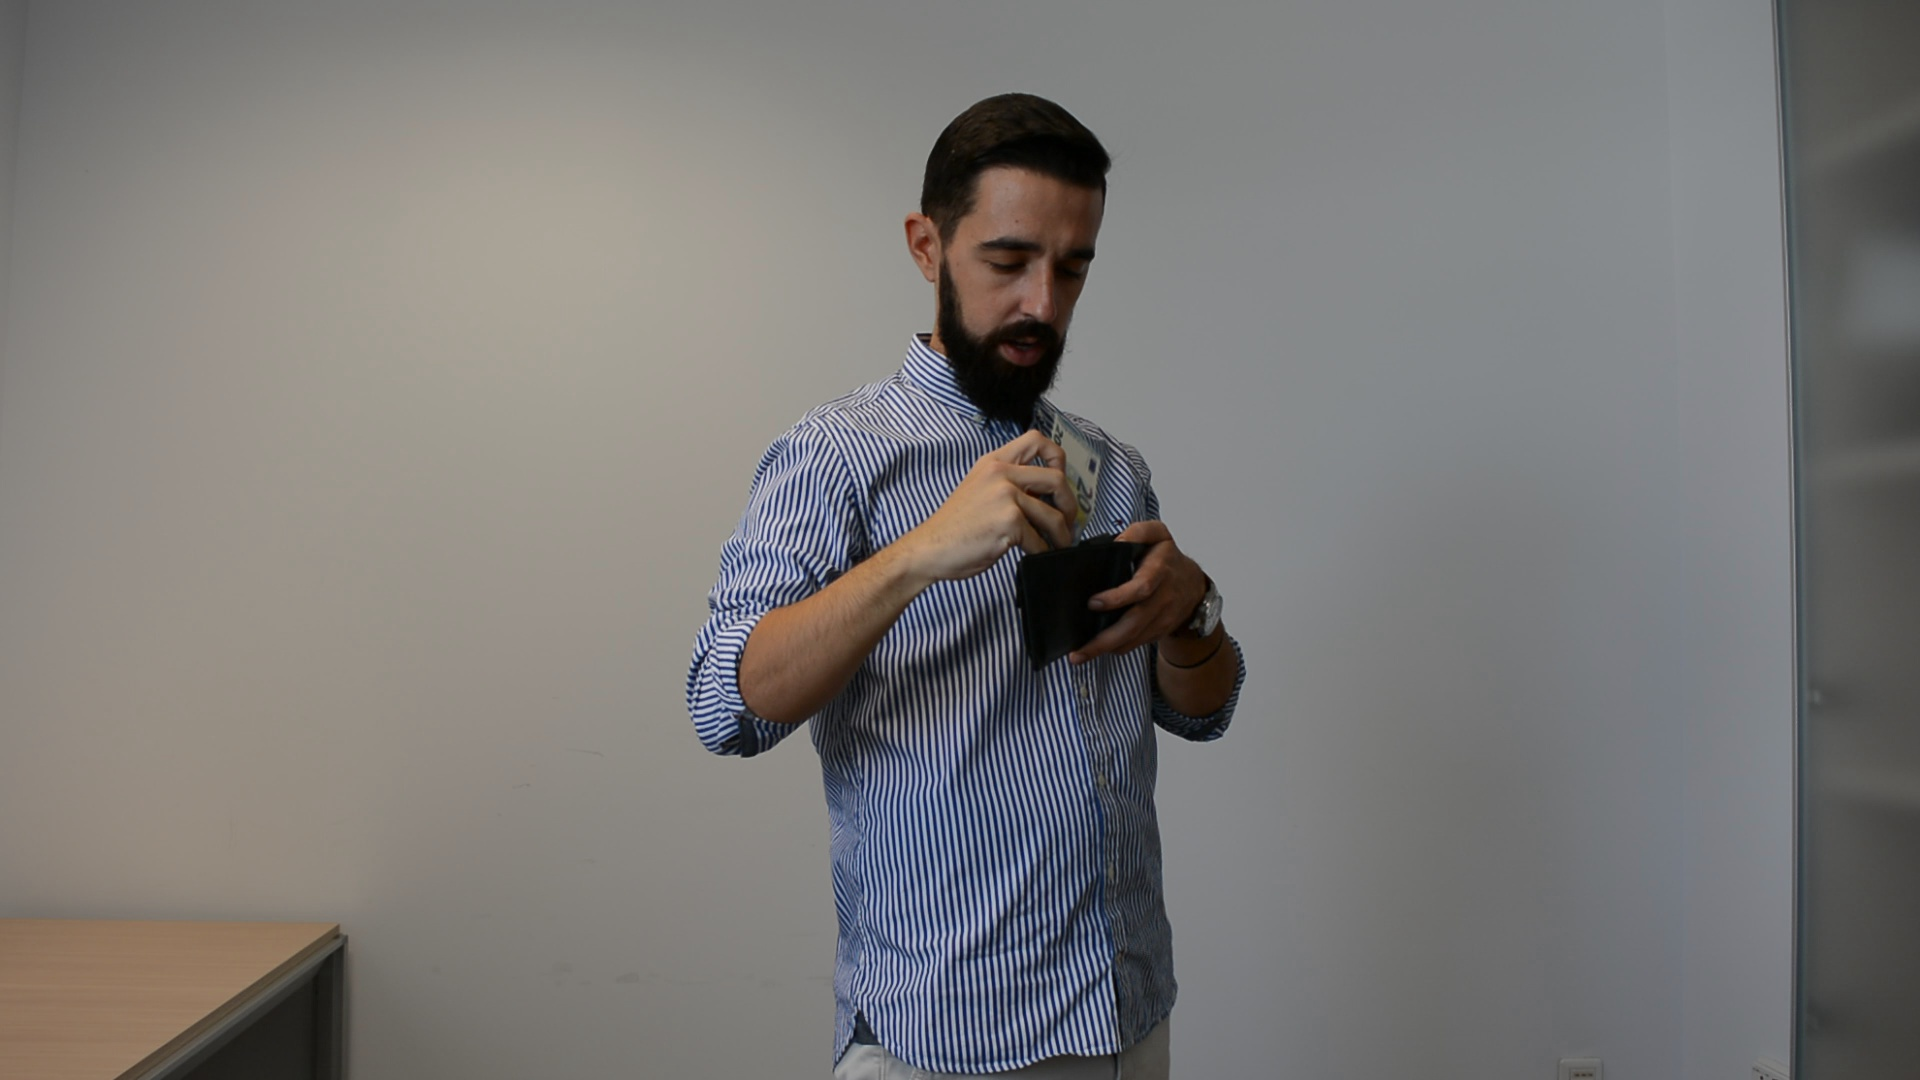billete: (1027, 411, 1113, 550)
monedero: (1013, 530, 1145, 673)
